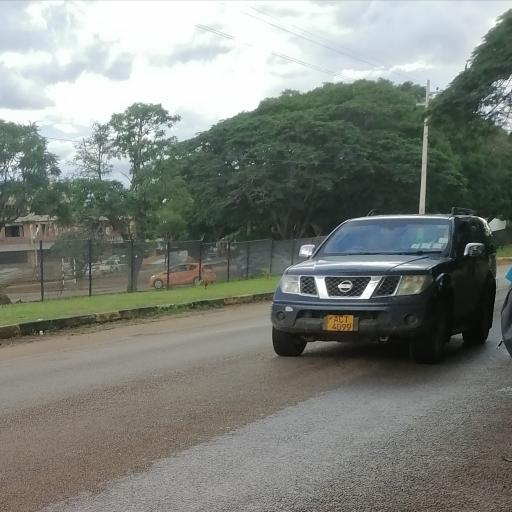number-plates: (328, 313, 358, 333)
